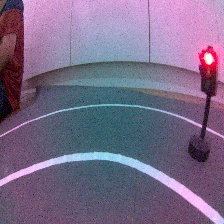red: (185, 44, 219, 164)
